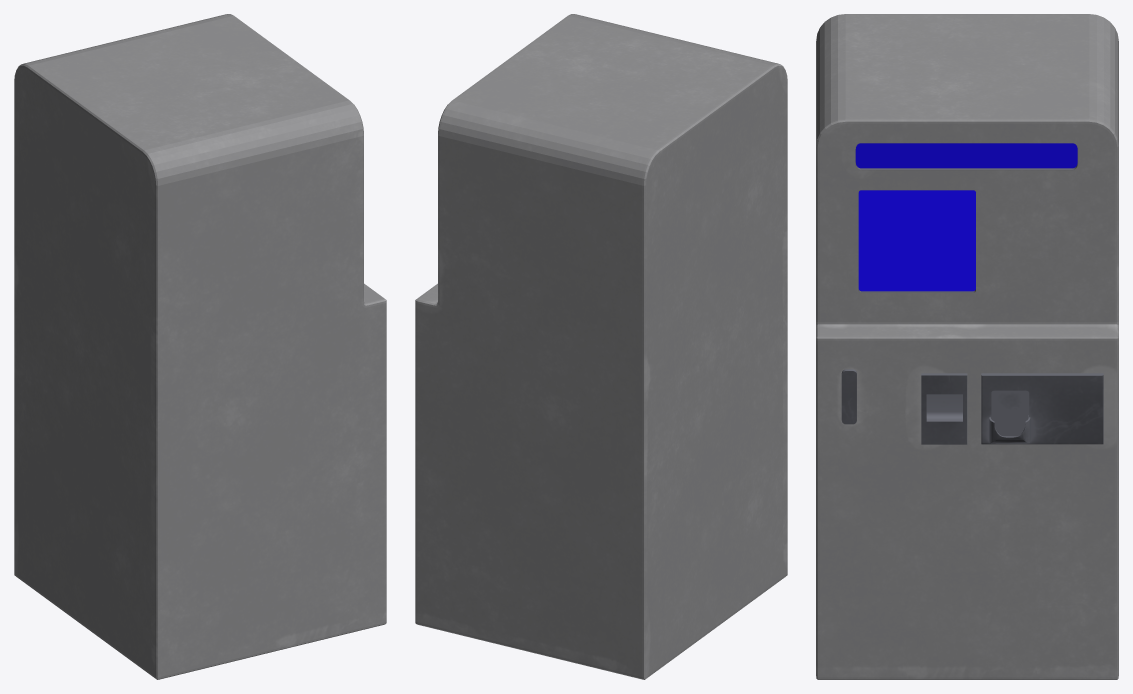
The model's file is 교통카드충전기.fbx.
3 views of the same model, side by side, from view 1: azimuth 30°, elevation 25°; view 2: azimuth 150°, elevation 25°; view 3: azimuth 270°, elevation 25° (orthographic). The views are drawn at different scales.
Visible parts, largest first — view 1: 교통카드정산기; view 2: 교통카드정산기; view 3: 교통카드정산기.
Boxes of the visible parts, x1=… form: 교통카드정산기: x1=14, y1=14, x2=386, y2=679; 교통카드정산기: x1=415, y1=14, x2=787, y2=679; 교통카드정산기: x1=816, y1=14, x2=1118, y2=679.
Bounding box in the file's own units: 79.6 × 160 × 80.
